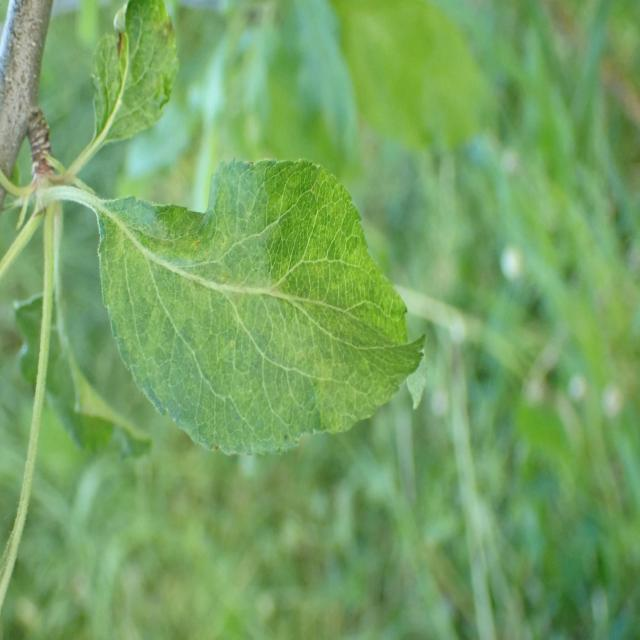scab: (126, 178, 422, 456)
